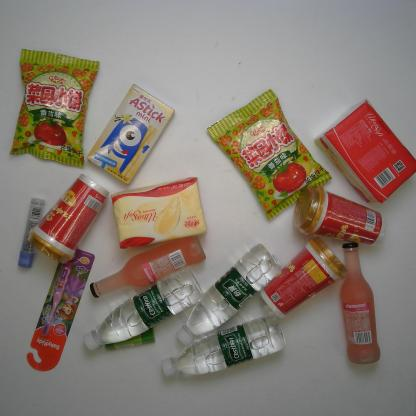Alcohol: (83, 233, 208, 300), (336, 240, 384, 367)
Dessert: (84, 80, 178, 187)
Drink: (173, 239, 284, 348), (78, 263, 206, 354), (157, 312, 291, 383)
Instant Drink: (25, 172, 112, 268), (258, 234, 349, 322), (290, 184, 388, 249)
Personal Hygiene: (22, 247, 96, 374)
Puffed Food: (204, 84, 336, 224), (7, 45, 101, 171)
Stationery: (14, 196, 47, 270), (102, 326, 158, 352)
Tissue: (312, 94, 415, 204), (106, 175, 214, 250)
